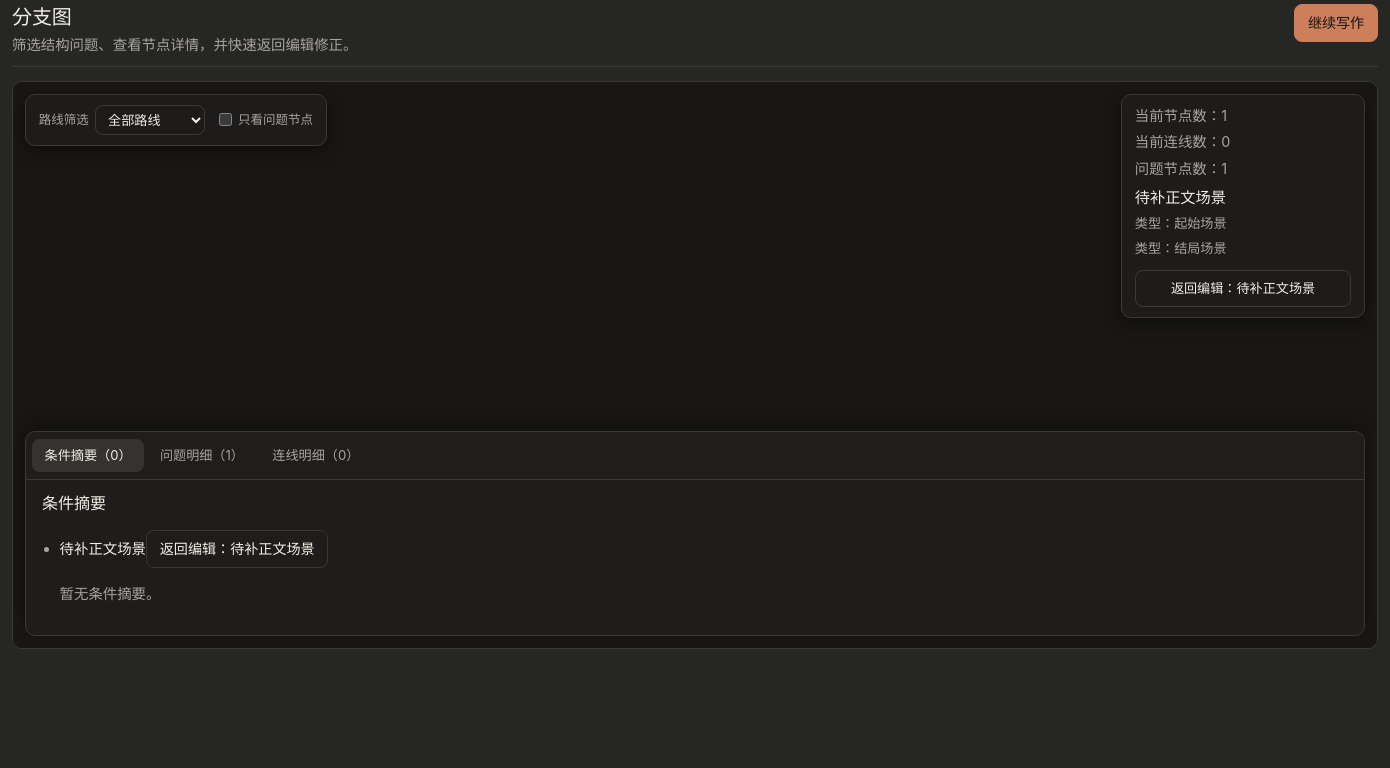
Test case: GraphPage issue categories › 会显示内容缺失分类和问题文案
The image size is (1390, 768).
Click the tab "问题明细（1）" at (202, 455), box [148,439,256,472]
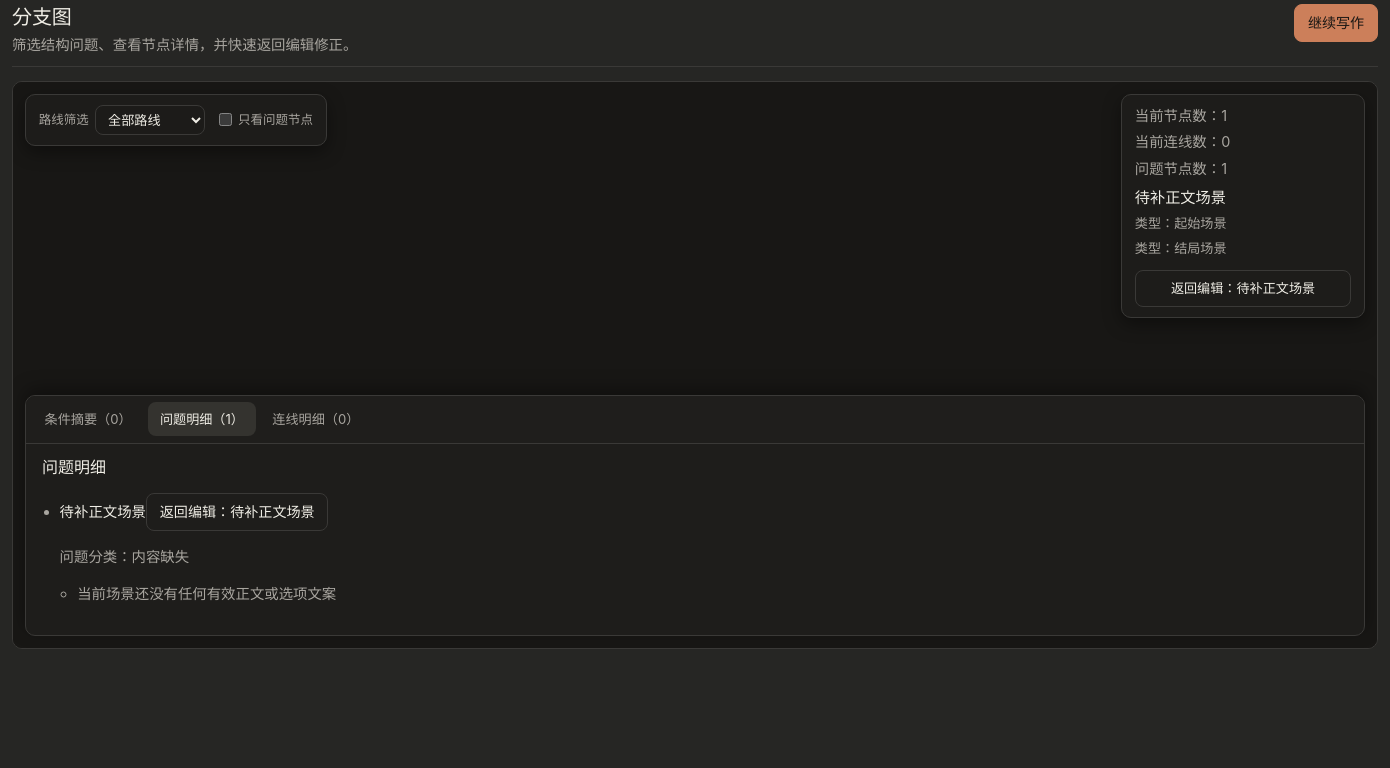
expect the text "待补正文场景" is shown: met, box [60,504,146,520]
expect the text "问题分类：内容缺失" is shown: met, box [60,548,189,565]
expect the list item "当前场景还没有任何有效正文或选项文案" is shown: met, box [77,585,336,602]
